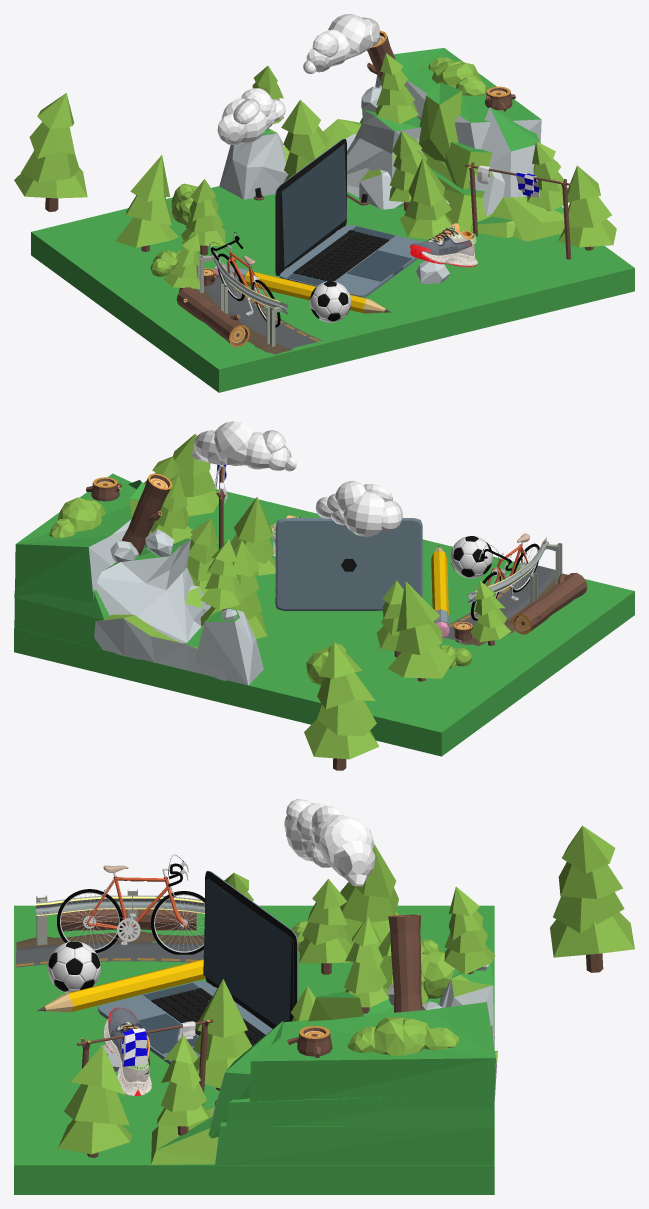
Rendered from office.glb.
The picture shows the model from 3 angles, top to bottom: view 1: azimuth 30°, elevation 25°; view 2: azimuth 150°, elevation 25°; view 3: azimuth 270°, elevation 25°; orthographic projection. The views are drawn at different scales.
Visible parts, largest first — view 1: group2016668438, group485226736, clouds, screen, group1555311382, group632722702, group1806860140, group954393760, group282285962, group624108358, group1511101908, group1019102024 (+28 smaller); view 2: group2016668438, compu, group632722702, clouds, group954393760, group1555311382, group1774266040, group282285962, group1806860140, group1434122196, group1511101908, group137140296 (+18 smaller); view 3: group2016668438, group632722702, group1434122196, screen, group1555311382, group1511301575, clouds, group1511101908, group485226736, group1019102024, group1987911788, pencil (+26 smaller).
Part boxes in pixels (x1,y1,x2,y2): group2016668438: [31, 186, 634, 392]; group485226736: [279, 225, 422, 297]; clouds: [217, 14, 380, 144]; screen: [282, 143, 346, 267]; group1555311382: [14, 93, 87, 211]; group632722702: [375, 48, 541, 149]; group1806860140: [219, 128, 288, 199]; group954393760: [347, 109, 423, 207]; group282285962: [115, 155, 178, 251]; group624108358: [481, 107, 540, 197]; group1511101908: [558, 165, 616, 250]; group1019102024: [400, 158, 452, 239]; group2016668438: [14, 489, 634, 756]; compu: [275, 518, 422, 610]; group632722702: [15, 473, 136, 602]; clouds: [191, 421, 402, 536]; group954393760: [96, 539, 201, 643]; group1555311382: [304, 641, 379, 770]; group1774266040: [94, 614, 226, 681]; group282285962: [388, 581, 453, 681]; group1806860140: [194, 608, 263, 685]; group1434122196: [14, 538, 191, 649]; group1511101908: [172, 433, 218, 516]; group137140296: [512, 572, 587, 634]; group2016668438: [14, 905, 494, 1194]; group632722702: [250, 1002, 495, 1115]; group1434122196: [215, 1100, 494, 1164]; screen: [203, 878, 291, 1025]; group1555311382: [550, 825, 634, 972]; group1511301575: [226, 1097, 493, 1130]; clouds: [284, 799, 375, 886]; group1511101908: [58, 1045, 131, 1157]; group485226736: [98, 981, 272, 1064]; group1019102024: [193, 979, 251, 1090]; group1987911788: [299, 879, 352, 974]; pencil: [37, 959, 205, 1012].
Bounding box in the file's own units: 6.31 × 3.07 × 6.2.
Materials: 36 (3 with a texture image).
